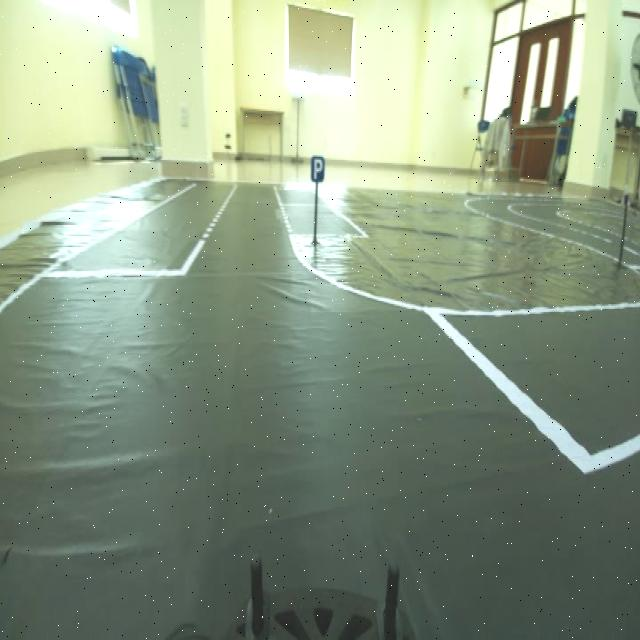parking: (305, 147, 328, 190)
